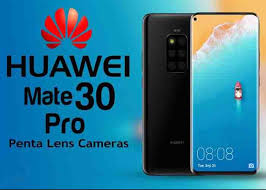huawei: (188, 11, 260, 174)
